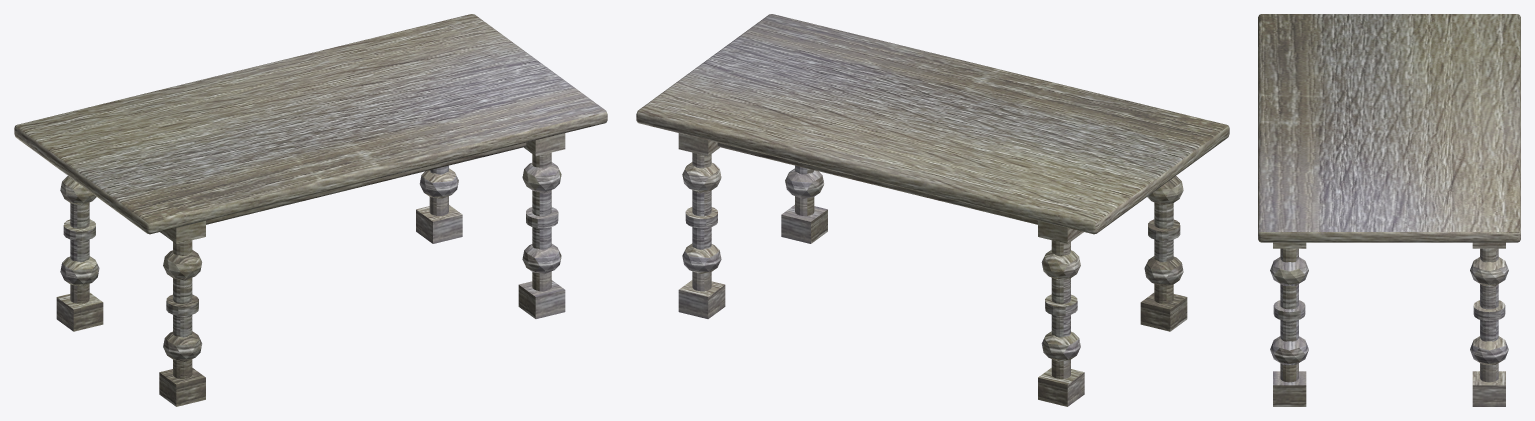
Rendered from Antique_Table_04.fbx.
The picture shows the model from 3 angles, left to right: view 1: azimuth 30°, elevation 25°; view 2: azimuth 150°, elevation 25°; view 3: azimuth 270°, elevation 25°; orthographic projection. The views are drawn at different scales.
Parts seen in each view (by area): view 1: Antique_Table; view 2: Antique_Table; view 3: Antique_Table.
Boxes of the visible parts, box(x1,y1,x2,y2) form: Antique_Table: box(14, 14, 607, 406); Antique_Table: box(636, 14, 1229, 406); Antique_Table: box(1258, 14, 1520, 406).
Bounding box in the file's own units: 1.85 × 0.76 × 0.94.
Materials: 1 (1 with a texture image).
